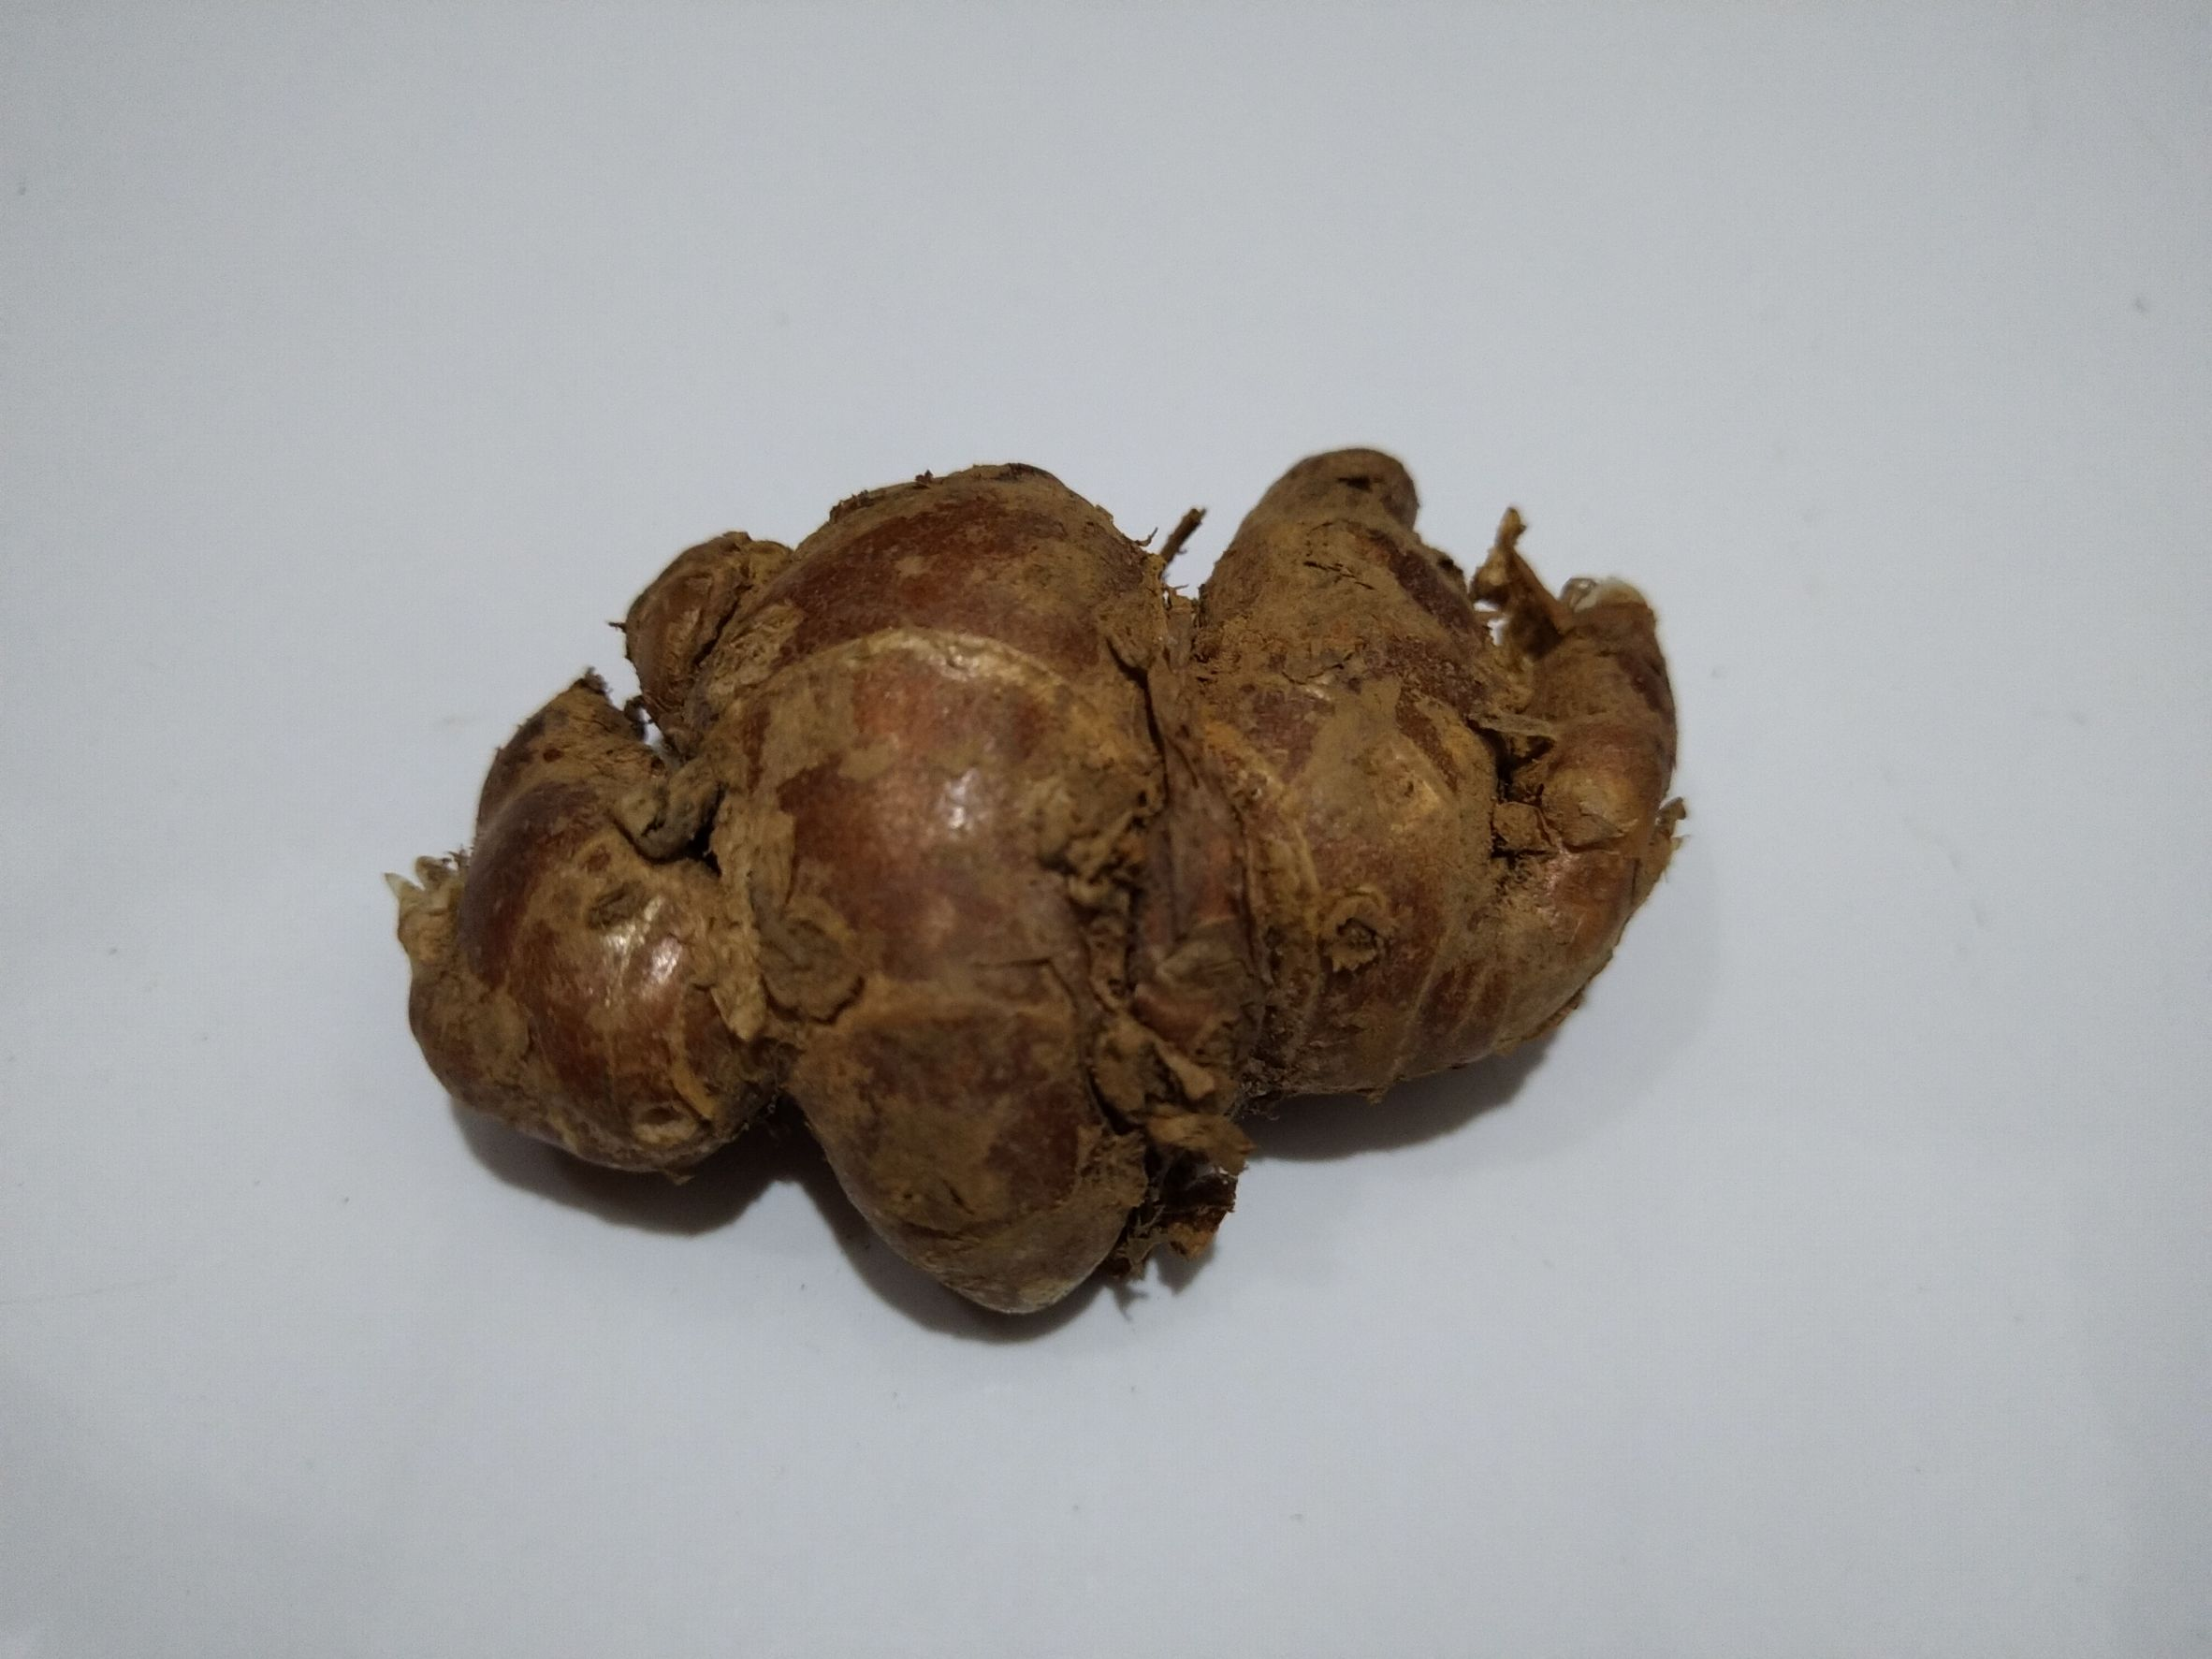Kencur: (394, 444, 1702, 1335)
